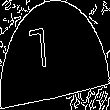L_S: (44, 28, 66, 82)
